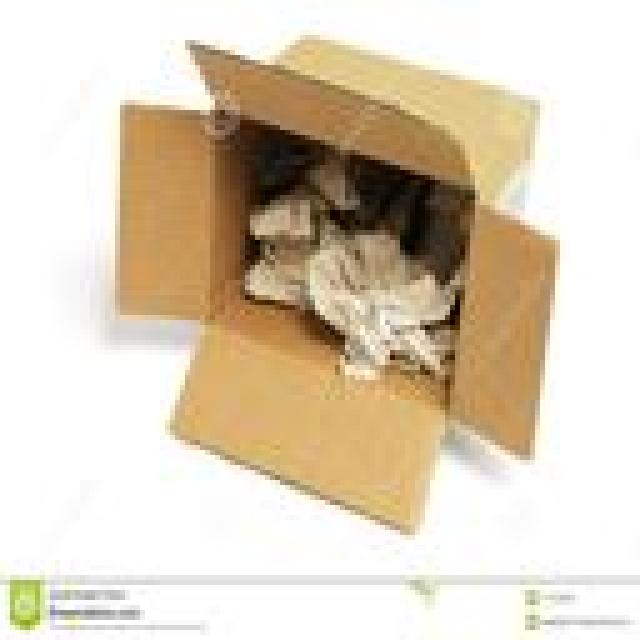cardboard: (110, 35, 560, 530)
paper: (300, 225, 455, 375), (240, 190, 330, 300), (285, 150, 370, 210), (400, 185, 455, 265), (350, 175, 410, 230)
